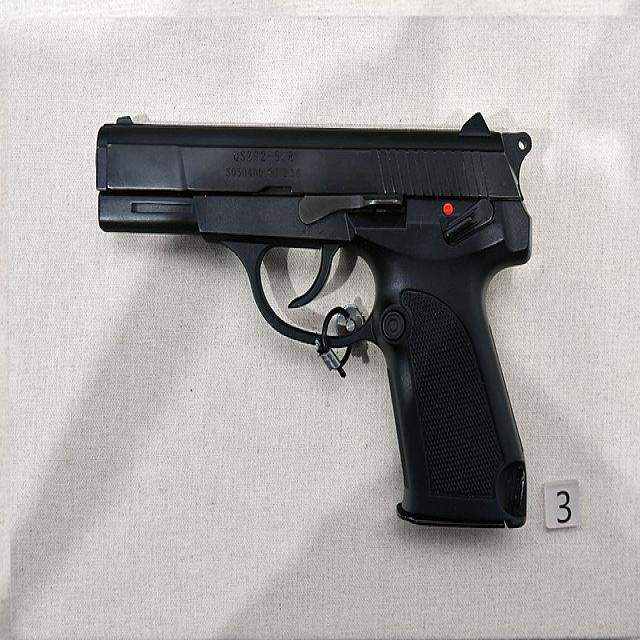HandGun: (96, 113, 534, 529)
